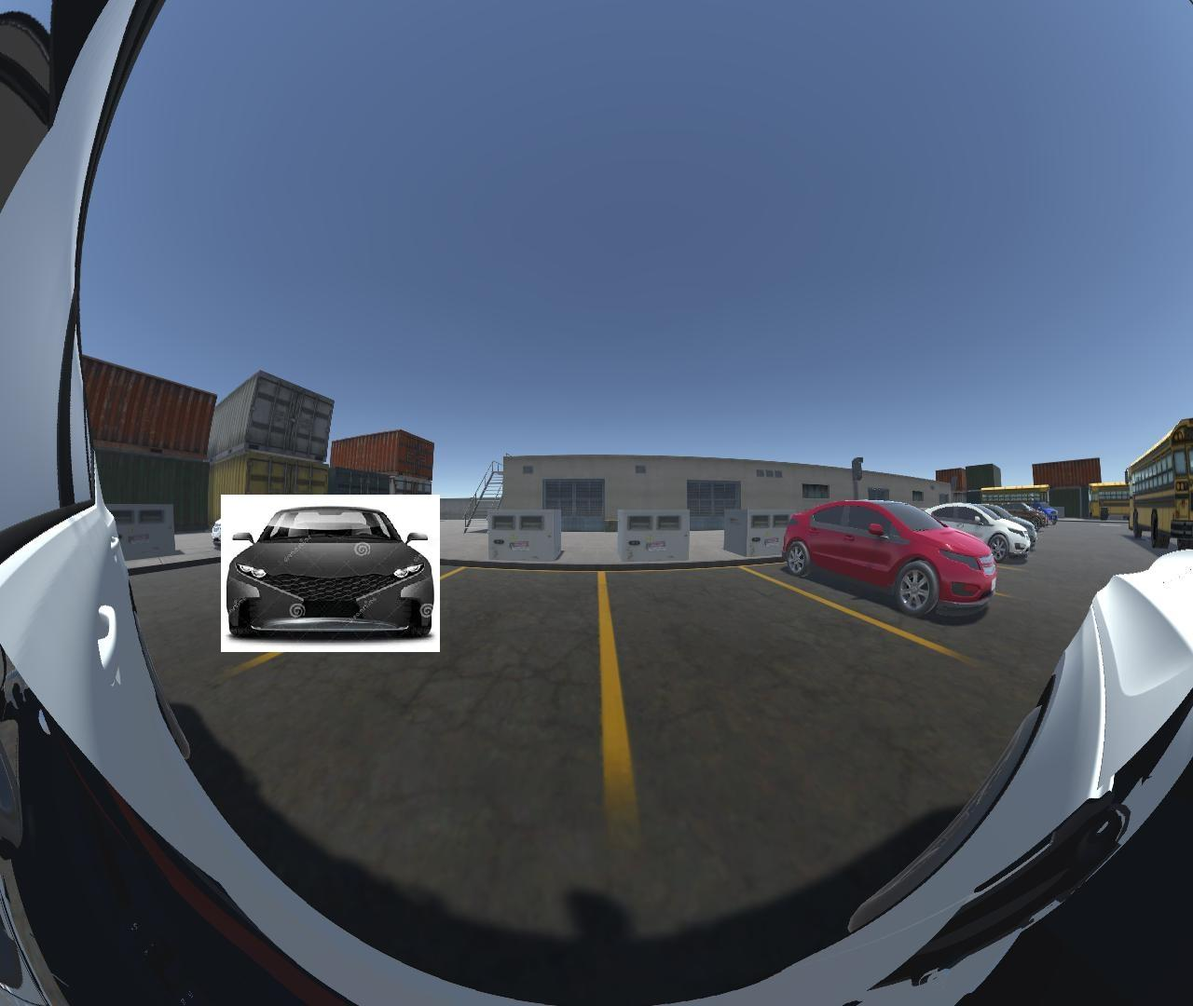Car: (224, 494, 435, 645)
